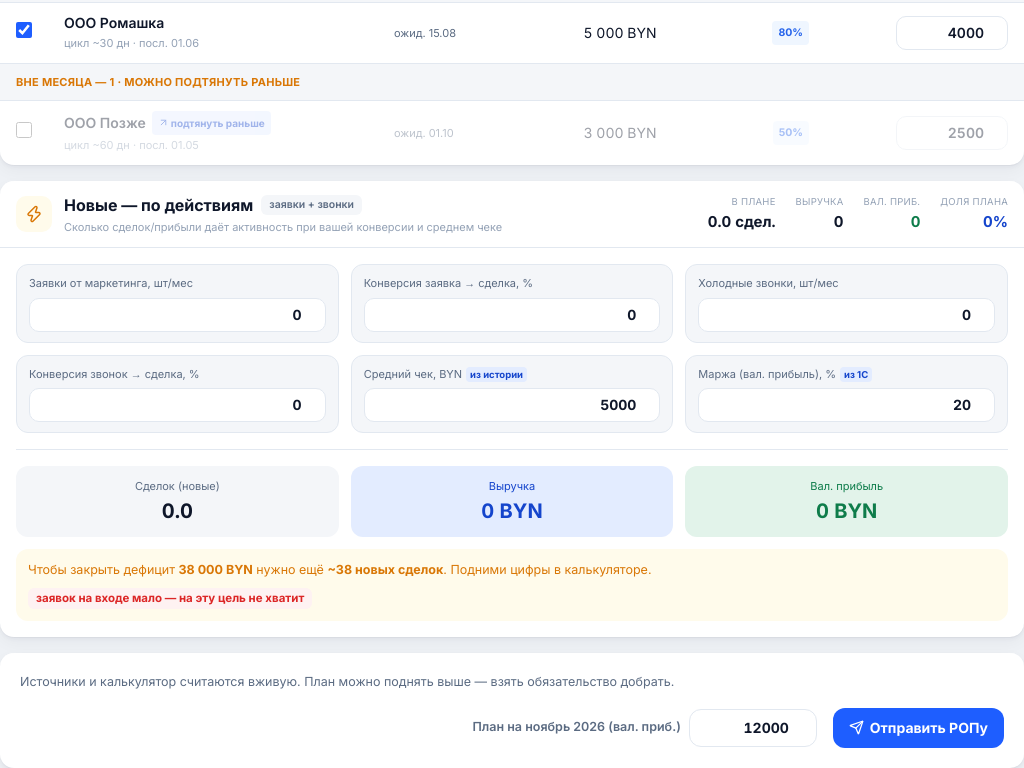
Test case: PlanConstructor › провал сохранения снапшота (PUT plan-items) показывает ошибку и не шлёт метрики
The width and height of the screenshot is (1024, 768).
(page scrolled)
Click the button "Отправить РОПу": coordinates (918, 728) [833,708,1004,748]
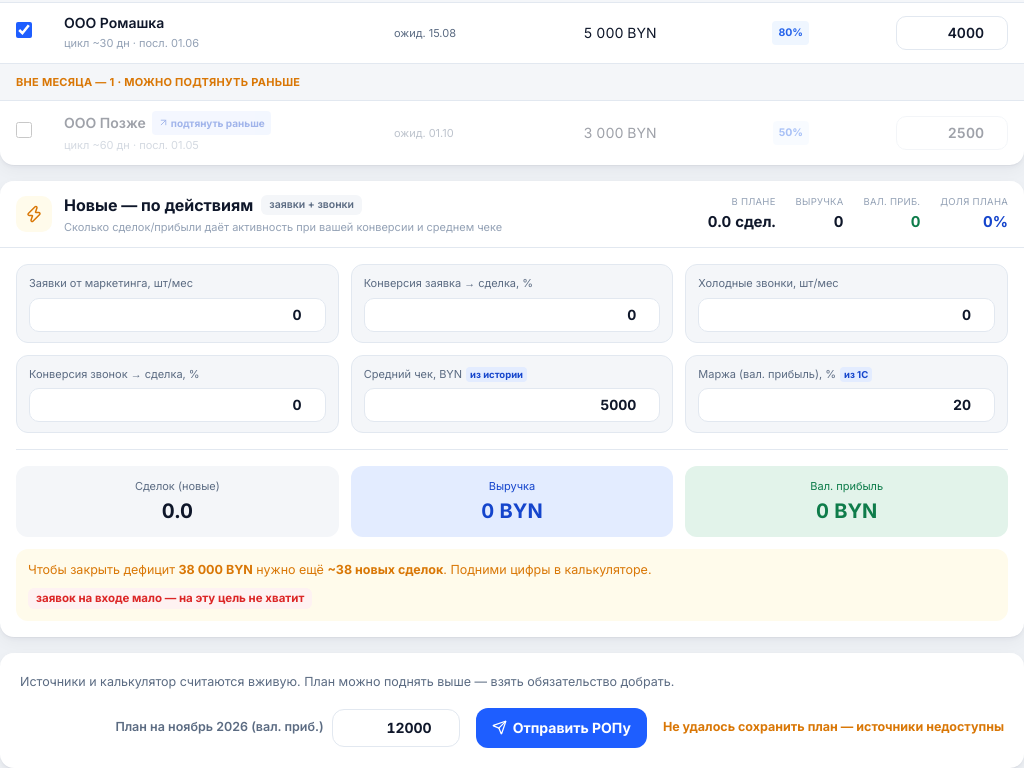
Now the text "Не удалось сохранить план — источники недоступны" is shown, box [663,718,1004,737]
